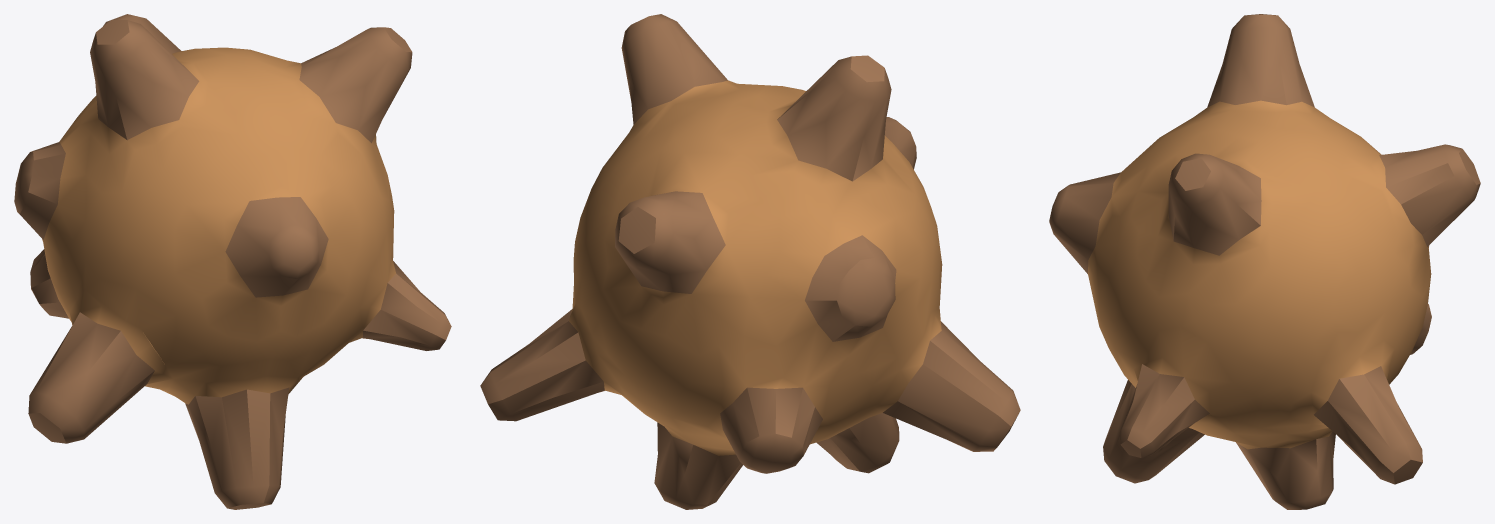
The model's file is Planet 5.glb.
The picture shows the model from 3 angles, left to right: view 1: azimuth 30°, elevation 25°; view 2: azimuth 150°, elevation 25°; view 3: azimuth 270°, elevation 25°; orthographic projection. The views are drawn at different scales.
Visible parts, largest first — view 1: Planet_5; view 2: Planet_5; view 3: Planet_5.
Part boxes in pixels (left/top/right/bottom): Planet_5: left=14, top=14, right=451, bottom=509; Planet_5: left=480, top=14, right=1020, bottom=509; Planet_5: left=1049, top=14, right=1480, bottom=509.
Bounding box in the file's own units: 4.23 × 4.52 × 4.03.
1 material, 1 textured.
